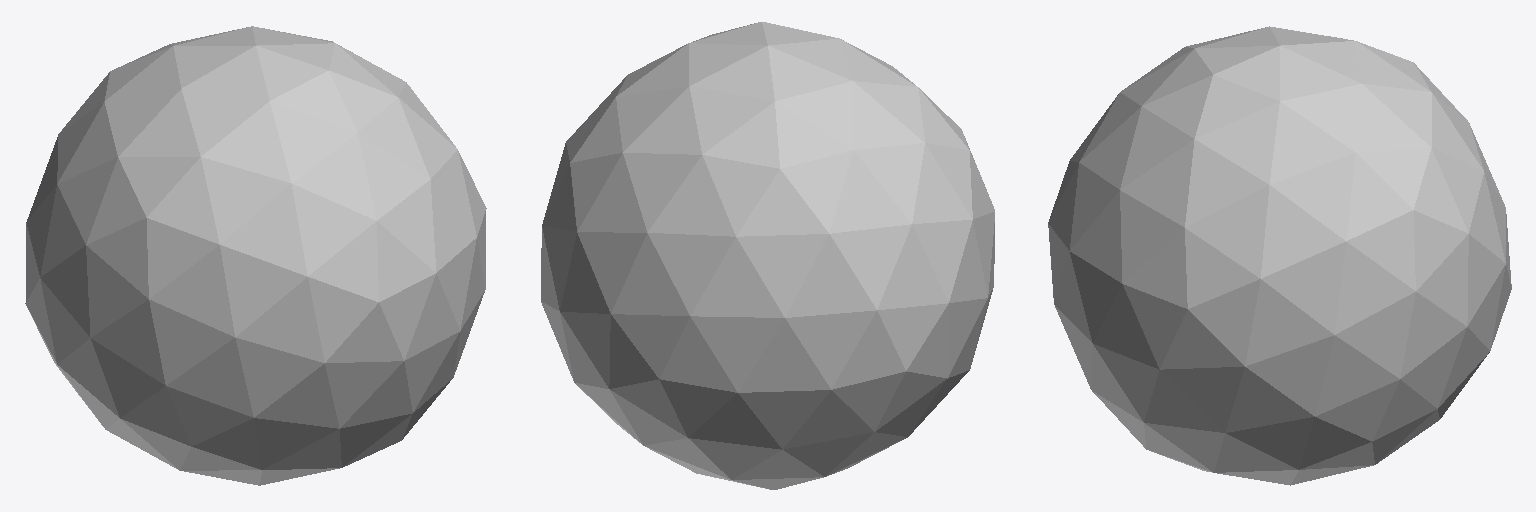
File: itemBall.obj
The picture shows the model from 3 angles: view 1: azimuth 30°, elevation 25°; view 2: azimuth 150°, elevation 25°; view 3: azimuth 270°, elevation 25°; orthographic projection.
Size of the model in its own units: 2.15 by 2.18 by 2.18.